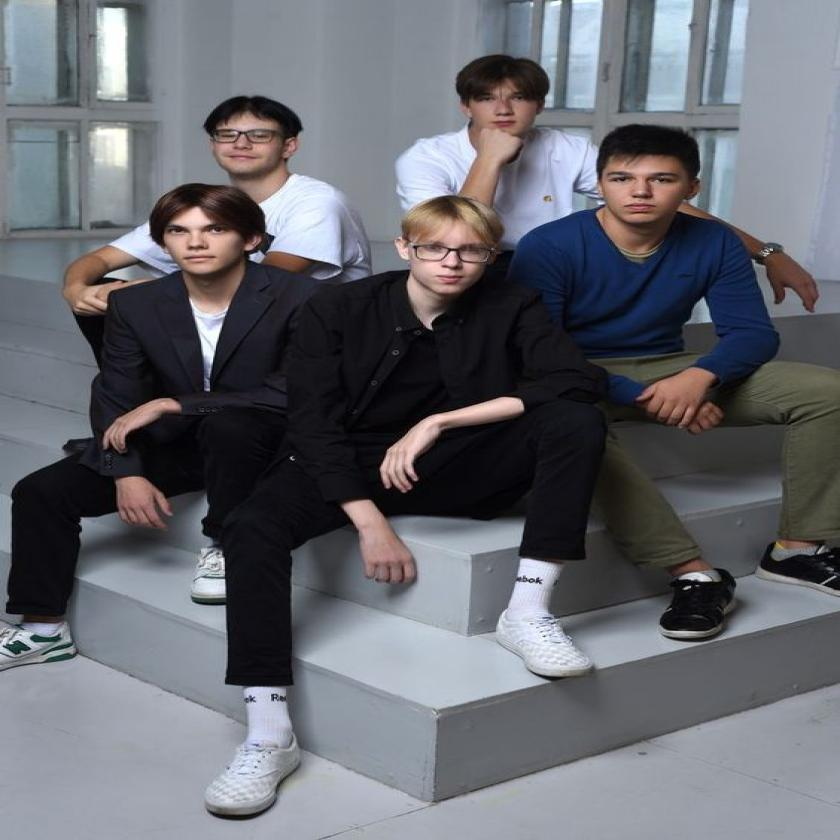Sin_casco: (600, 121, 706, 249), (151, 183, 270, 289), (404, 196, 505, 308), (454, 56, 559, 153), (205, 95, 305, 186)
